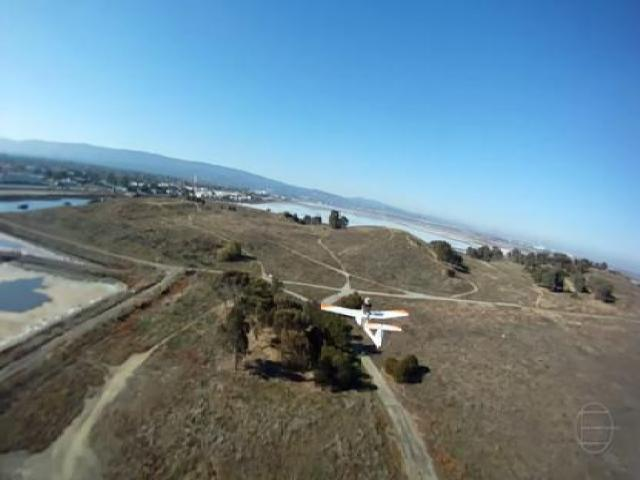uav: (312, 291, 413, 354)
